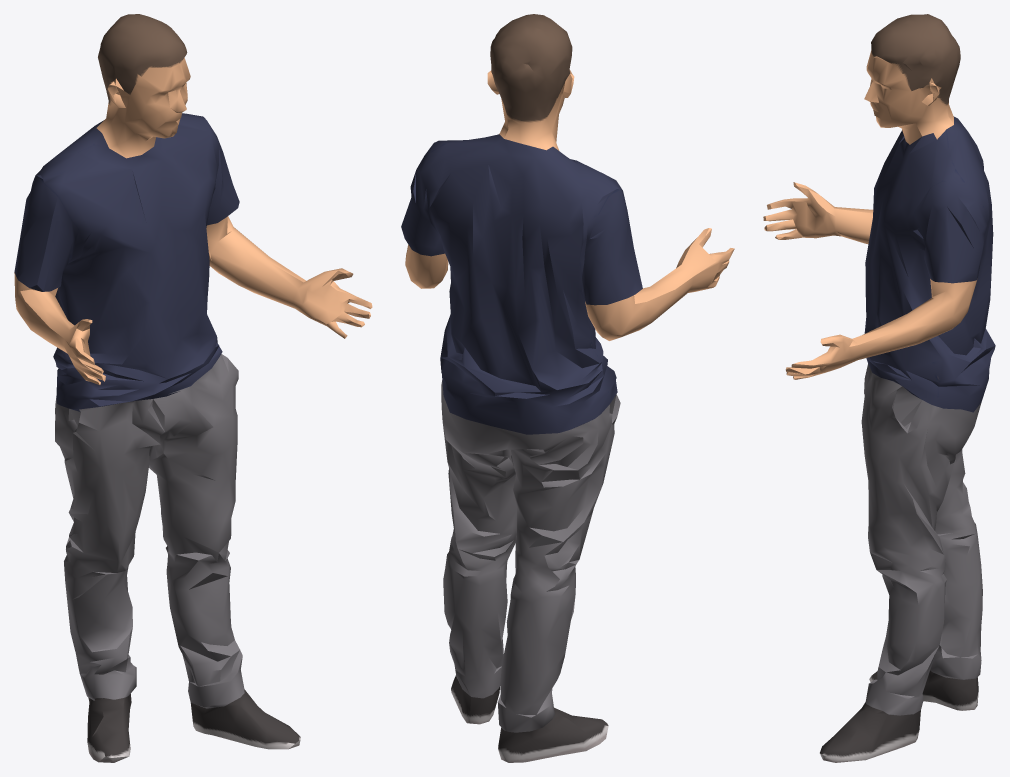
File: human_01.fbx
3 views of the same model, side by side, from view 1: azimuth 30°, elevation 25°; view 2: azimuth 150°, elevation 25°; view 3: azimuth 270°, elevation 25° (orthographic). The views are drawn at different scales.
Parts seen in each view (by area): view 1: Cas_Sum_Man_RtStand_144; view 2: Cas_Sum_Man_RtStand_144; view 3: Cas_Sum_Man_RtStand_144.
Part boxes in pixels (x1,y1,x2,y2): Cas_Sum_Man_RtStand_144: [14, 14, 372, 762]; Cas_Sum_Man_RtStand_144: [401, 14, 734, 762]; Cas_Sum_Man_RtStand_144: [763, 14, 995, 762].
Size of the model in its own units: 72.07 by 166 by 50.52.
Materials: 1 (1 with a texture image).
